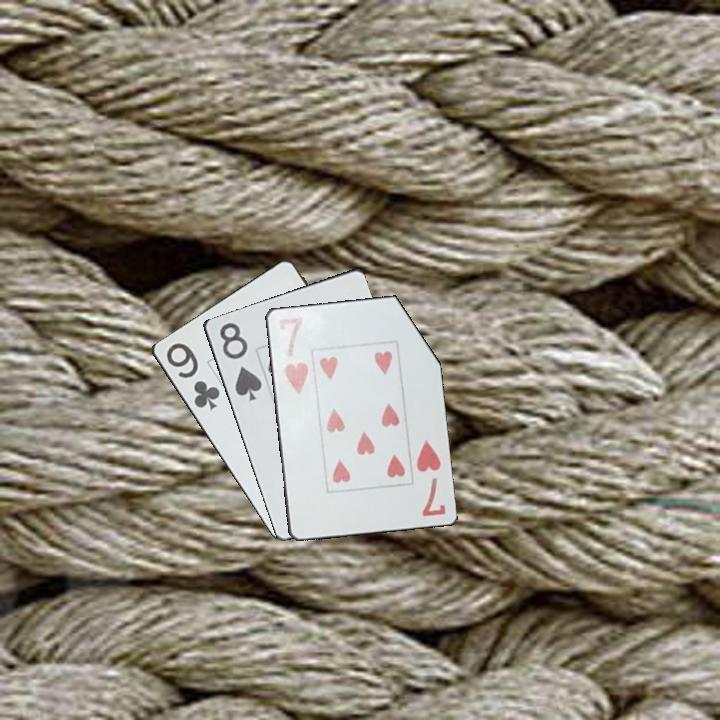7h: (274, 313, 311, 397), (412, 437, 448, 520)
8s: (215, 319, 265, 404)
9c: (162, 339, 222, 413)
